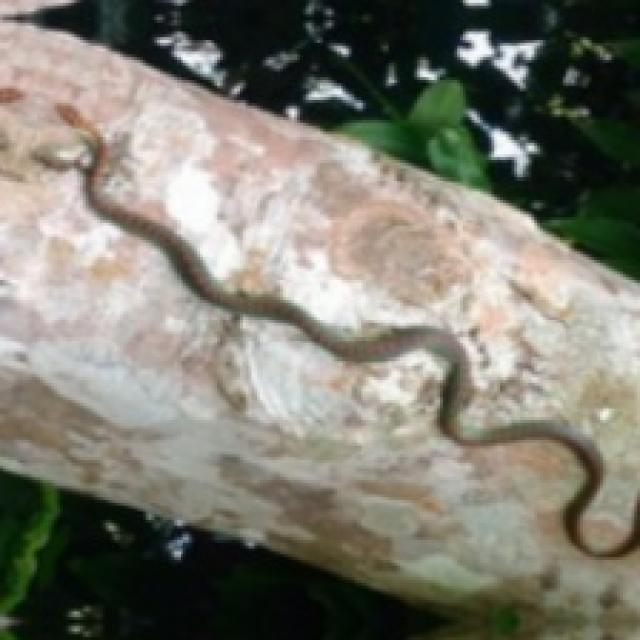paradise tree snake: (54, 103, 637, 554), (329, 194, 437, 280), (314, 160, 354, 194), (354, 177, 383, 194)
